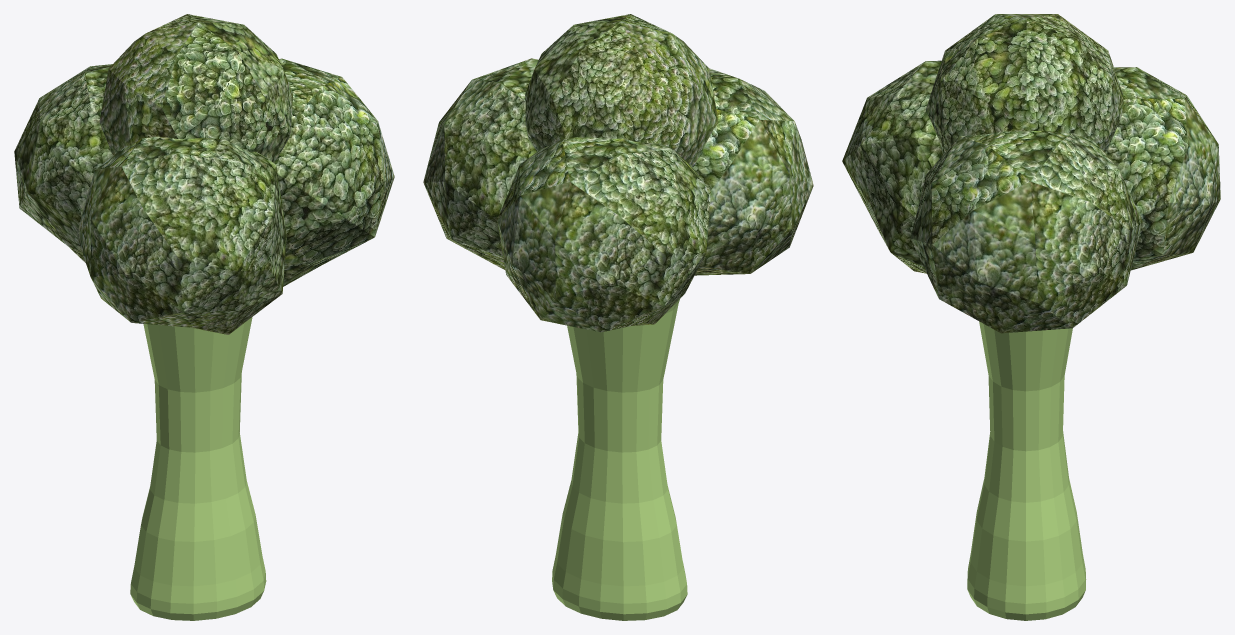
File: broccoliv1.1.fbx
The picture shows the model from 3 angles, left to right: view 1: azimuth 30°, elevation 25°; view 2: azimuth 150°, elevation 25°; view 3: azimuth 270°, elevation 25°; orthographic projection.
Parts seen in each view (by area): view 1: Icosphere.002, Plane, Icosphere.003, Icosphere, Icosphere.001; view 2: Icosphere.001, Plane, Icosphere.003, Icosphere.002, Icosphere; view 3: Icosphere, Plane, Icosphere.003, Icosphere.001, Icosphere.002.
Boxes of the visible parts, box(x1,y1,x2,y2) form: Icosphere.002: box(76, 136, 286, 334); Plane: box(130, 317, 266, 620); Icosphere.003: box(99, 14, 292, 162); Icosphere: box(274, 58, 394, 286); Icosphere.001: box(14, 64, 112, 262); Icosphere.001: box(497, 137, 710, 332); Plane: box(552, 299, 687, 620); Icosphere.003: box(525, 14, 718, 166); Icosphere.002: box(693, 68, 813, 275); Icosphere: box(423, 58, 538, 269); Icosphere: box(910, 130, 1142, 333); Plane: box(967, 321, 1086, 620); Icosphere.003: box(926, 14, 1123, 154); Icosphere.001: box(1105, 67, 1220, 270); Icosphere.002: box(842, 60, 942, 273).
Size of the model in its own units: 549 by 949 by 565.
